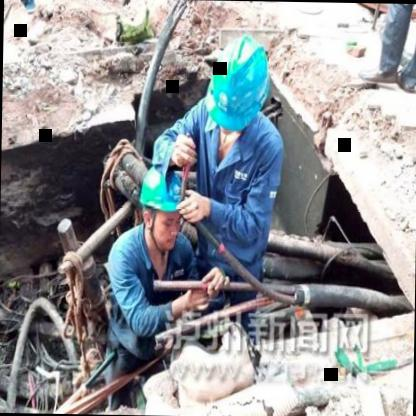helmet: (204, 27, 272, 141), (134, 160, 180, 250)
